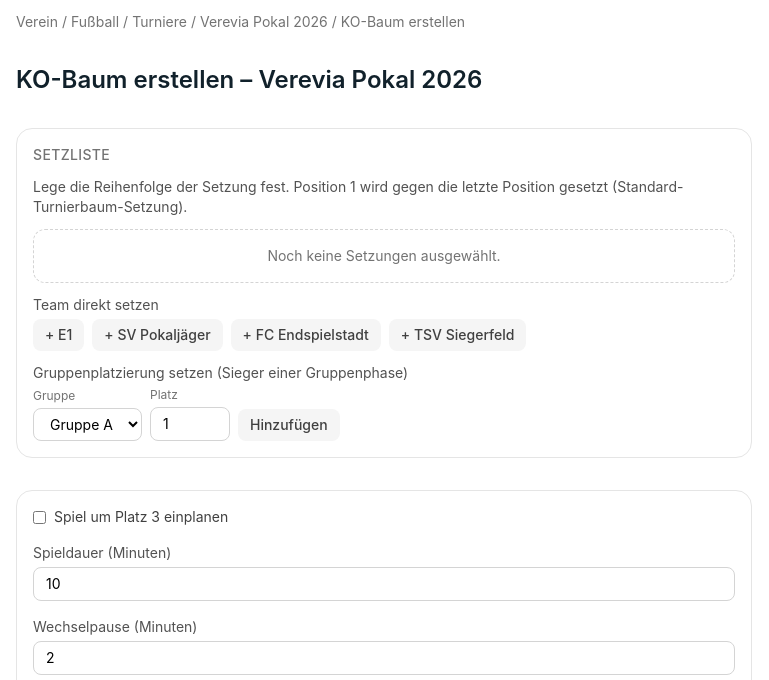
Test: TournamentKnockoutGenerator › can add a group-placement entrant alongside direct team entrants
Click the button "+ E1".
click(59, 335)  # box [33,319,84,351]
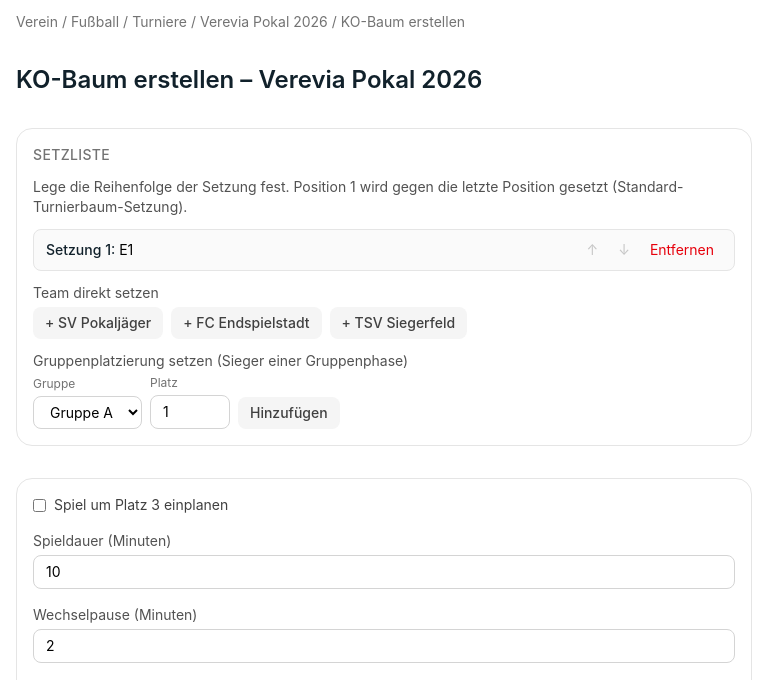
Click the button "Hinzufügen".
click(289, 413)  # box [238,397,340,429]
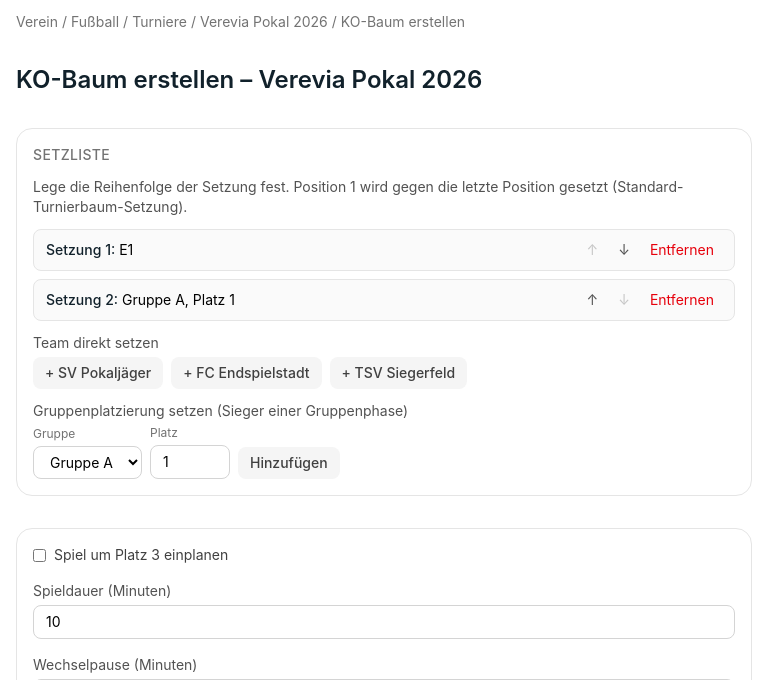
Result: the list item "Setzung 2: Gruppe A, Platz 1 ↑ ↓ Entfernen" is shown at [33,279,735,321]
